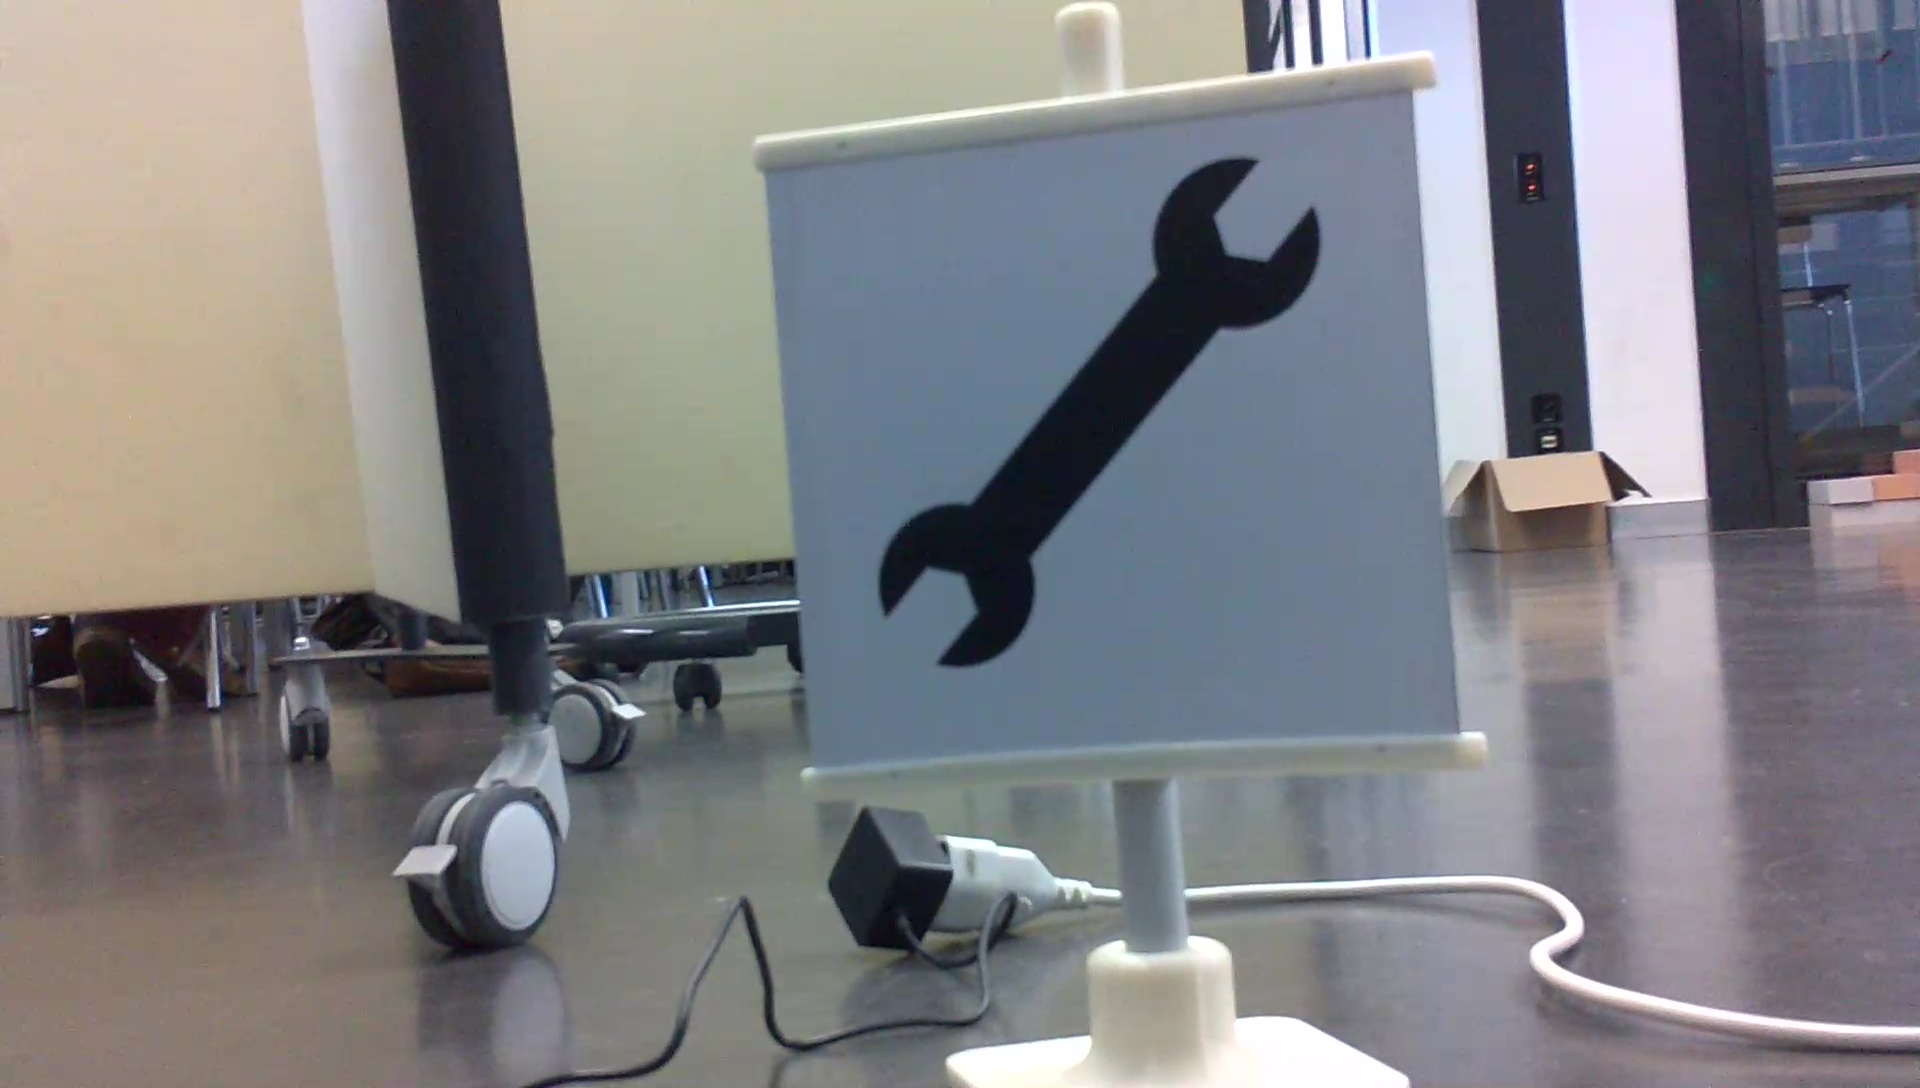wrench: (870, 138, 1340, 680)
